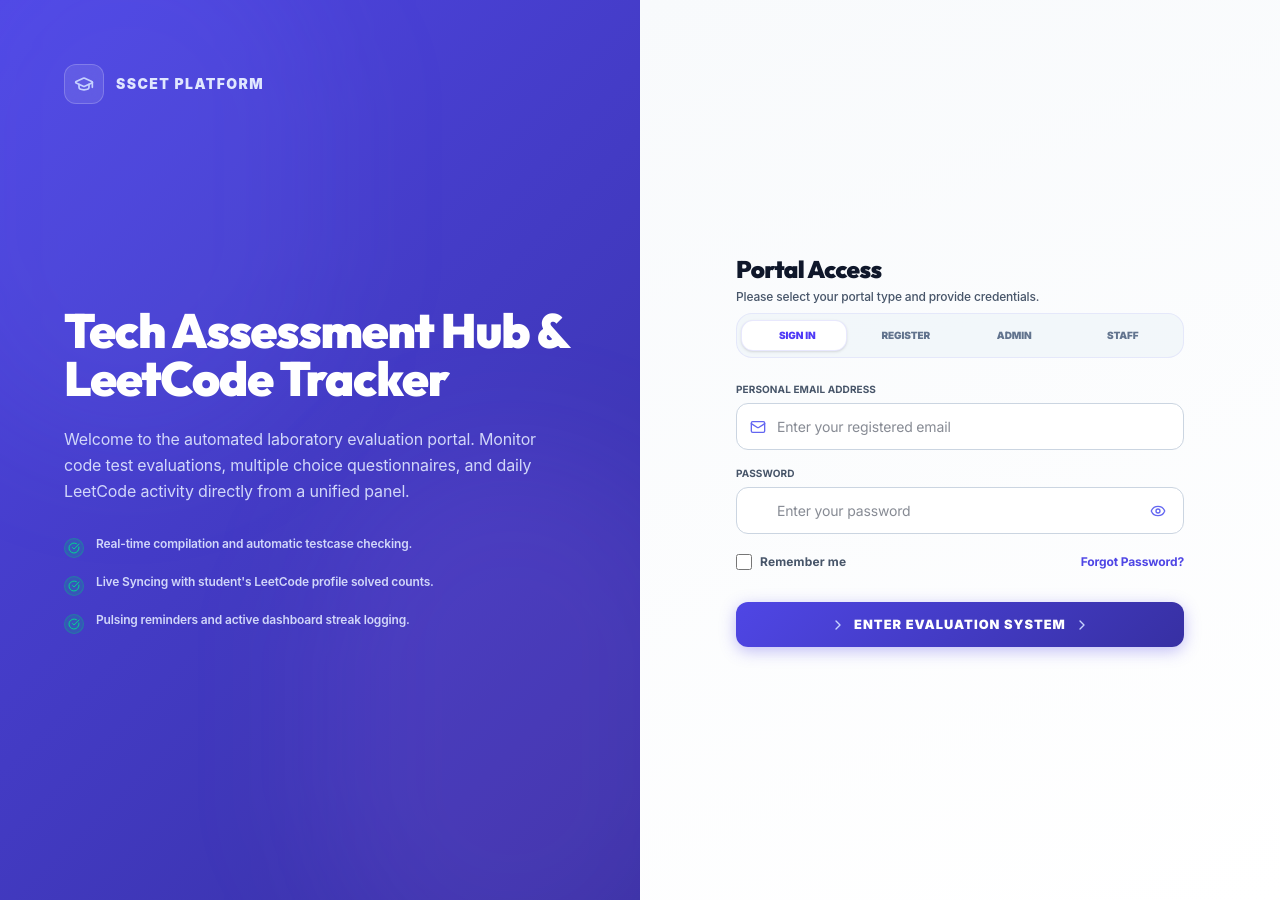
LoginPage — Sign In Validation › shows error when password is empty on submit
In the field with placeholder "Enter your registered email": (960, 427) [736,403,1184,450], type "jane@example.com"
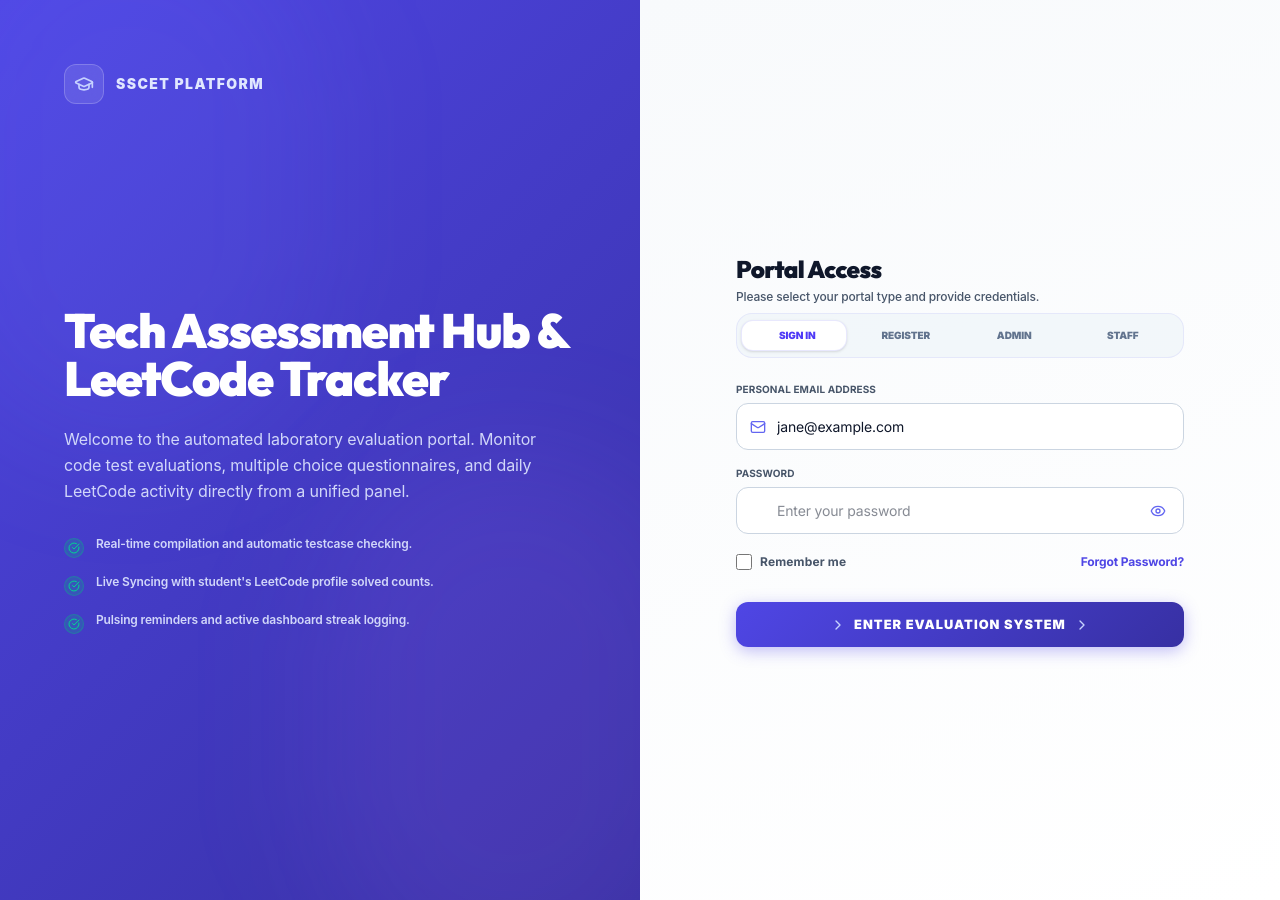
Submit the form, box [736,382,1184,647]
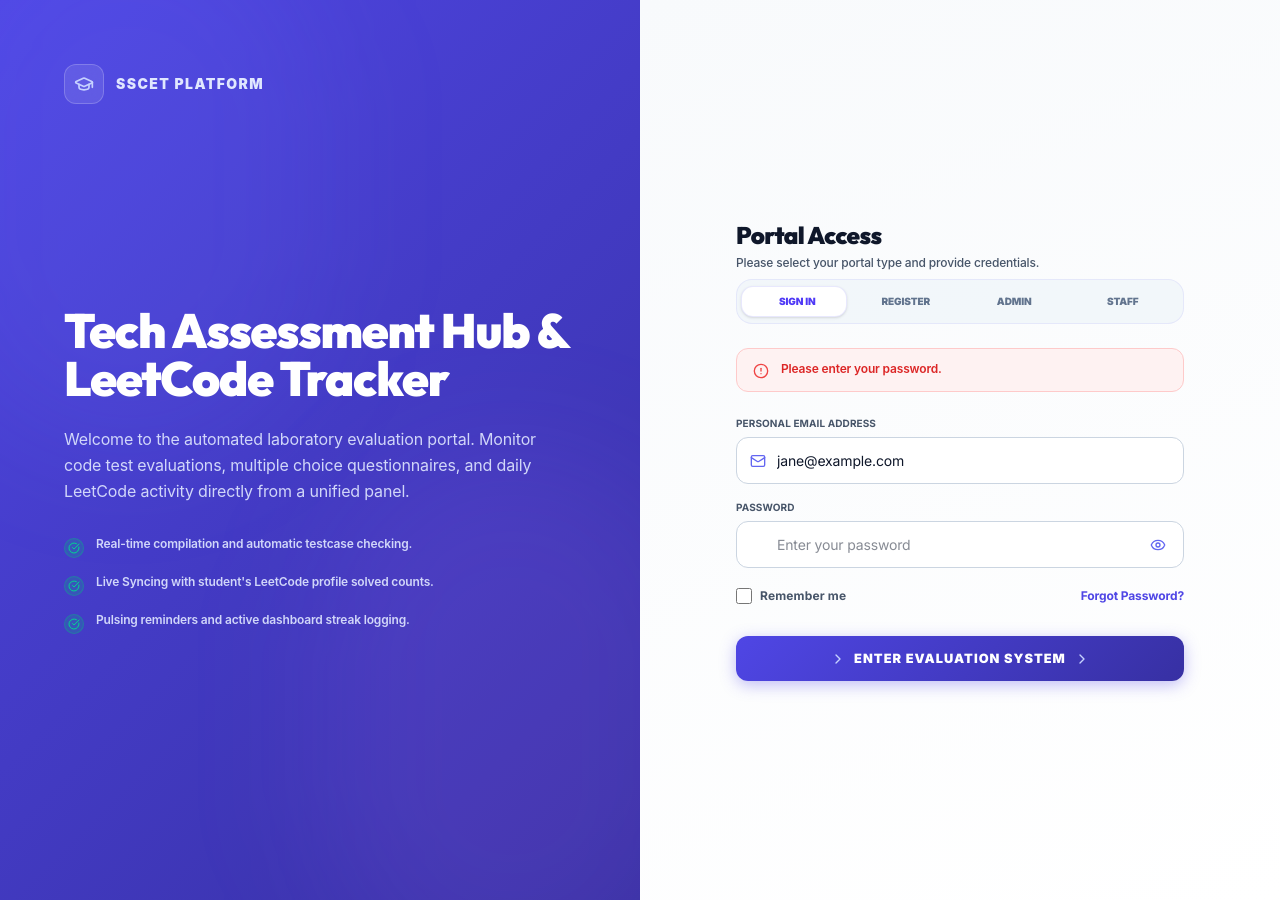
Check: the text "Please enter your password." is shown, box [781,361,942,377]
